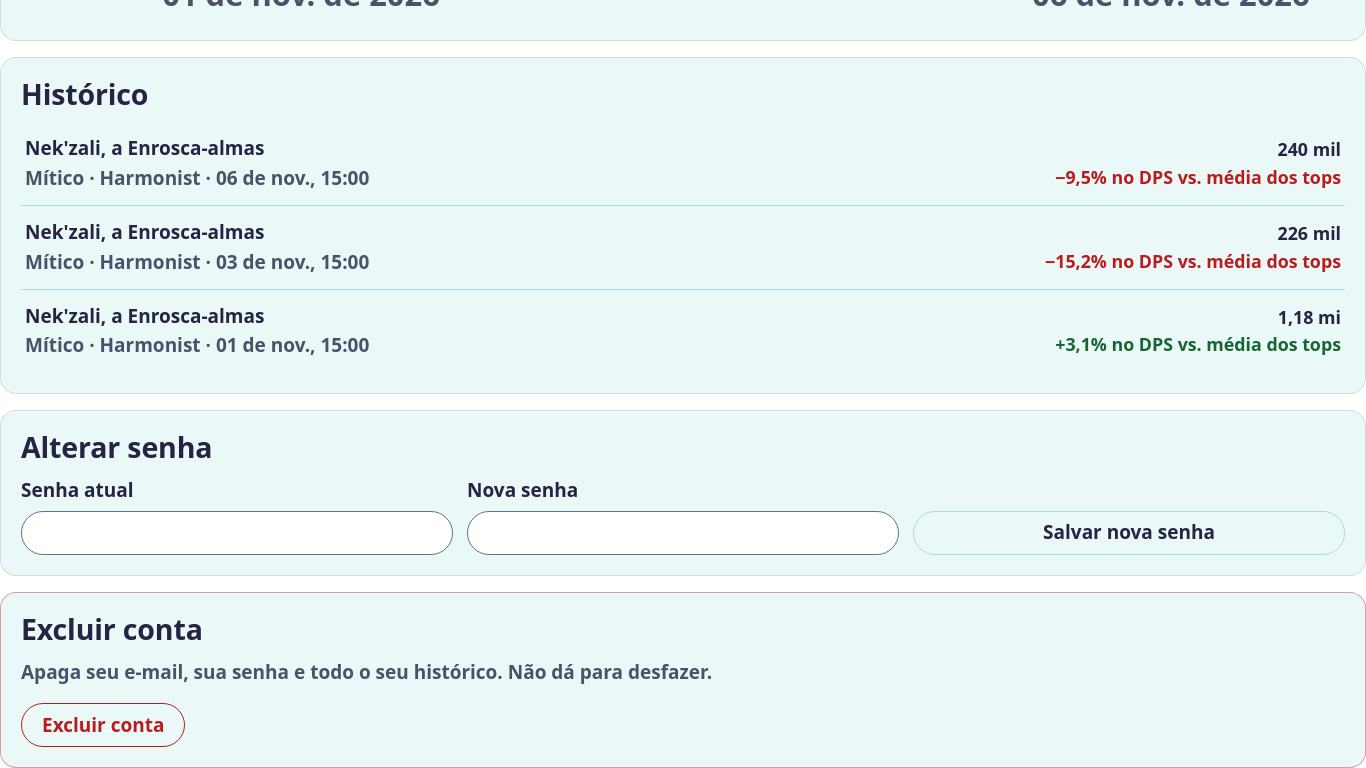
Test case: Profile › alterar senha › senha atual errada: mostra a mensagem do servidor e mantém o que foi digitado
(page scrolled)
Step 1. Type "errada" into the password field labelled "Senha atual" → (237, 533), box [21,511,453,555]
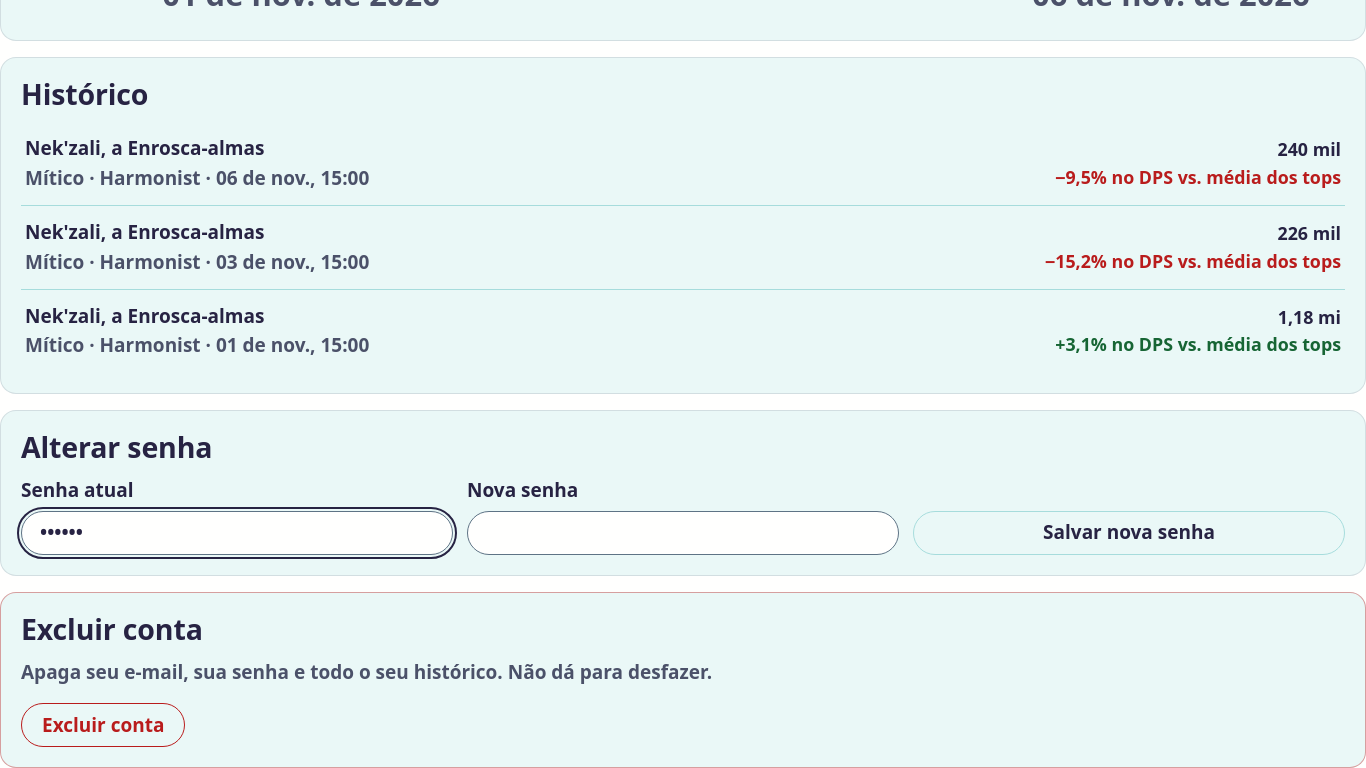
Step 2. Type "senha-nova-123" into the password field labelled "Nova senha" → (683, 533), box [467,511,899,555]
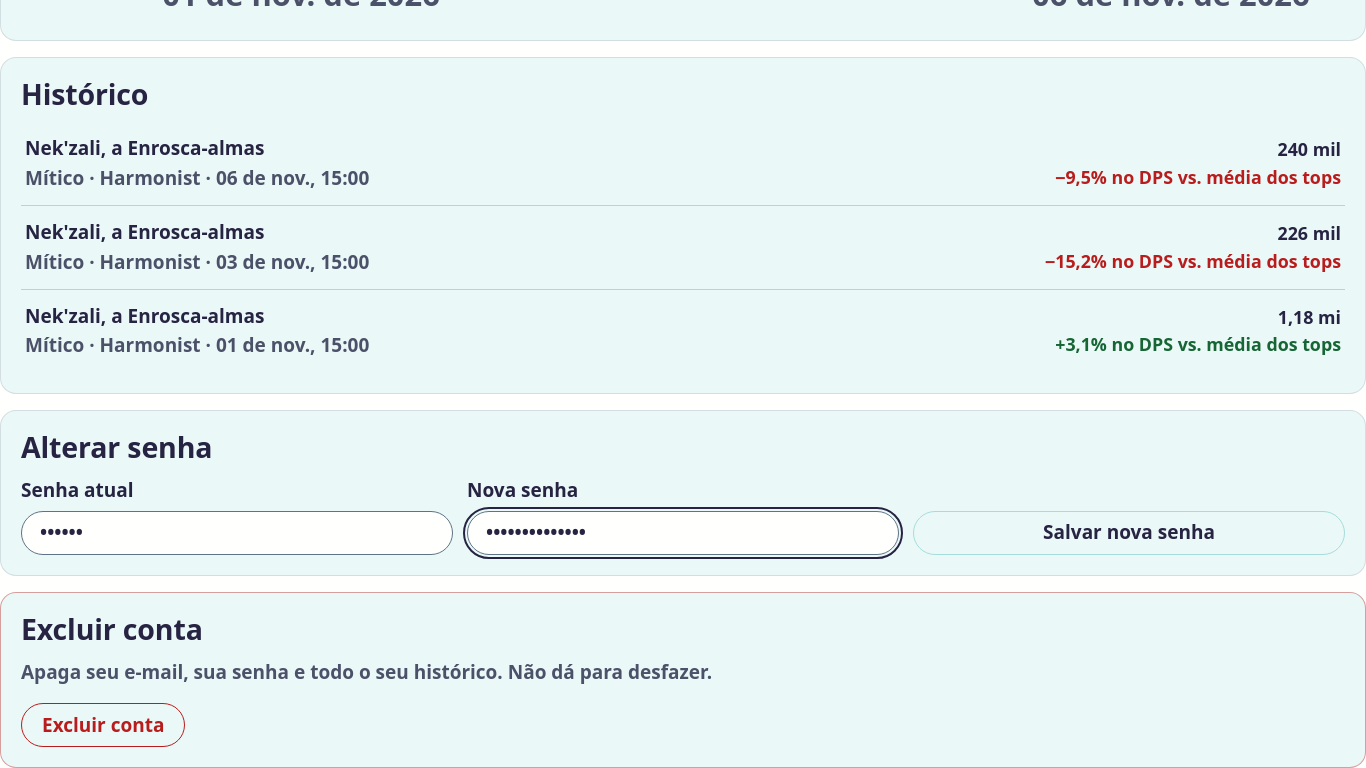
Step 3. Click the button "Salvar nova senha" → click(1129, 533), box [913,511,1345,555]
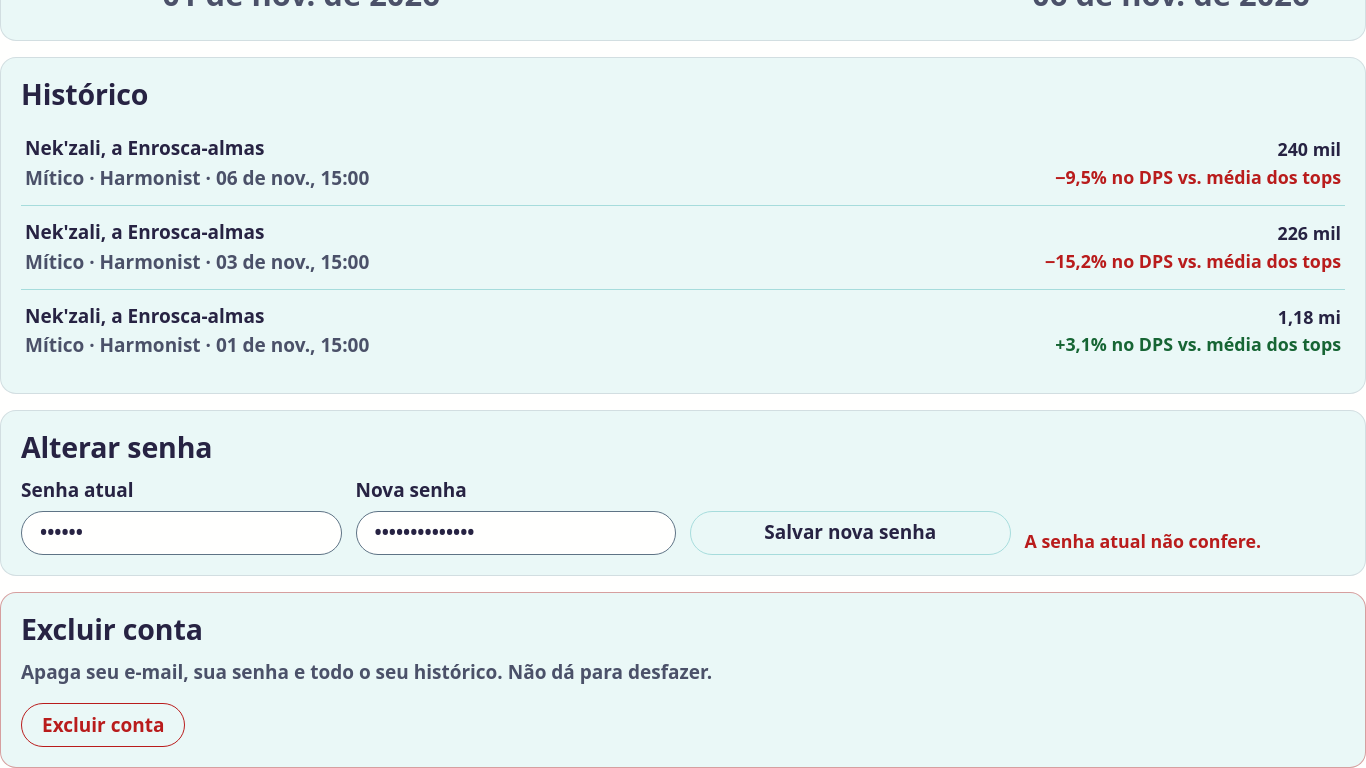
Now the text "A senha atual não confere." is shown, box [1024,528,1261,552]
